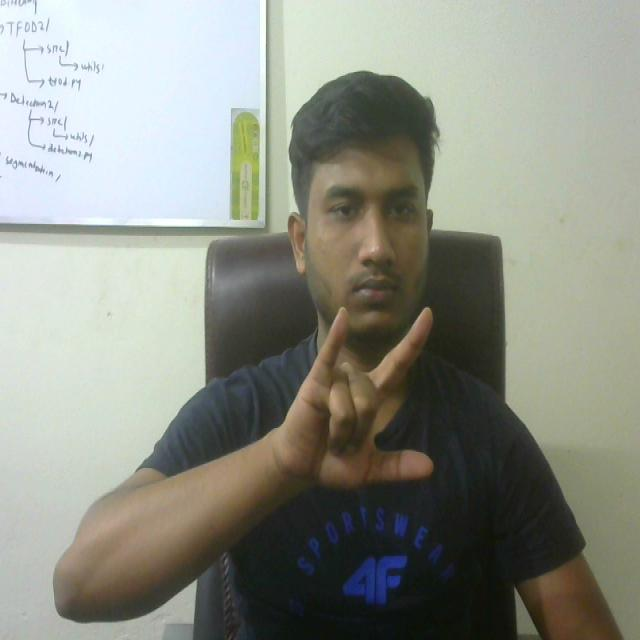I Love You: (256, 291, 453, 512)
